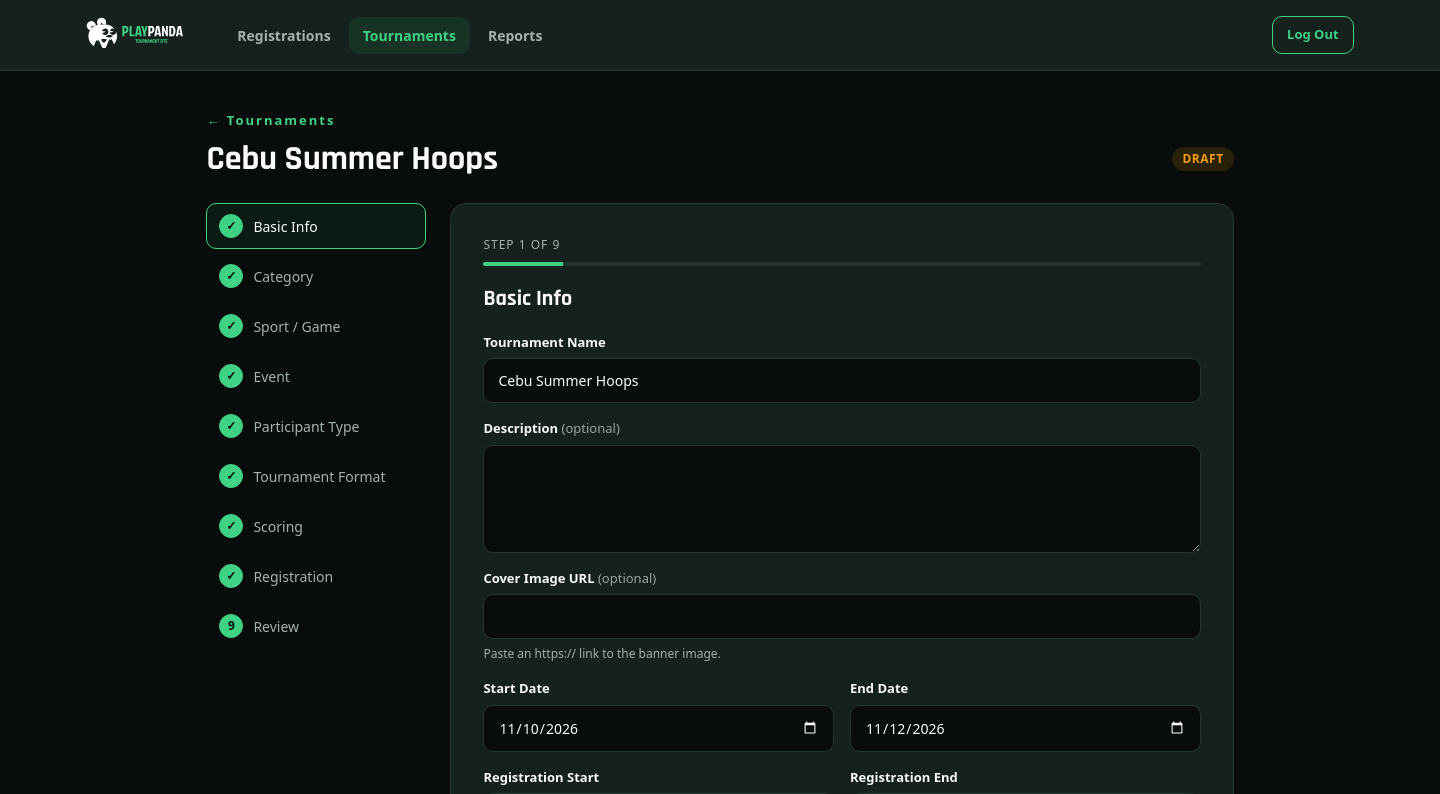
Test case: TournamentWizardPage › publishes a complete tournament with status and published_at
Step 1. Click the button "9 Review" → (316, 626), box [206,603,426,649]
(page scrolled)
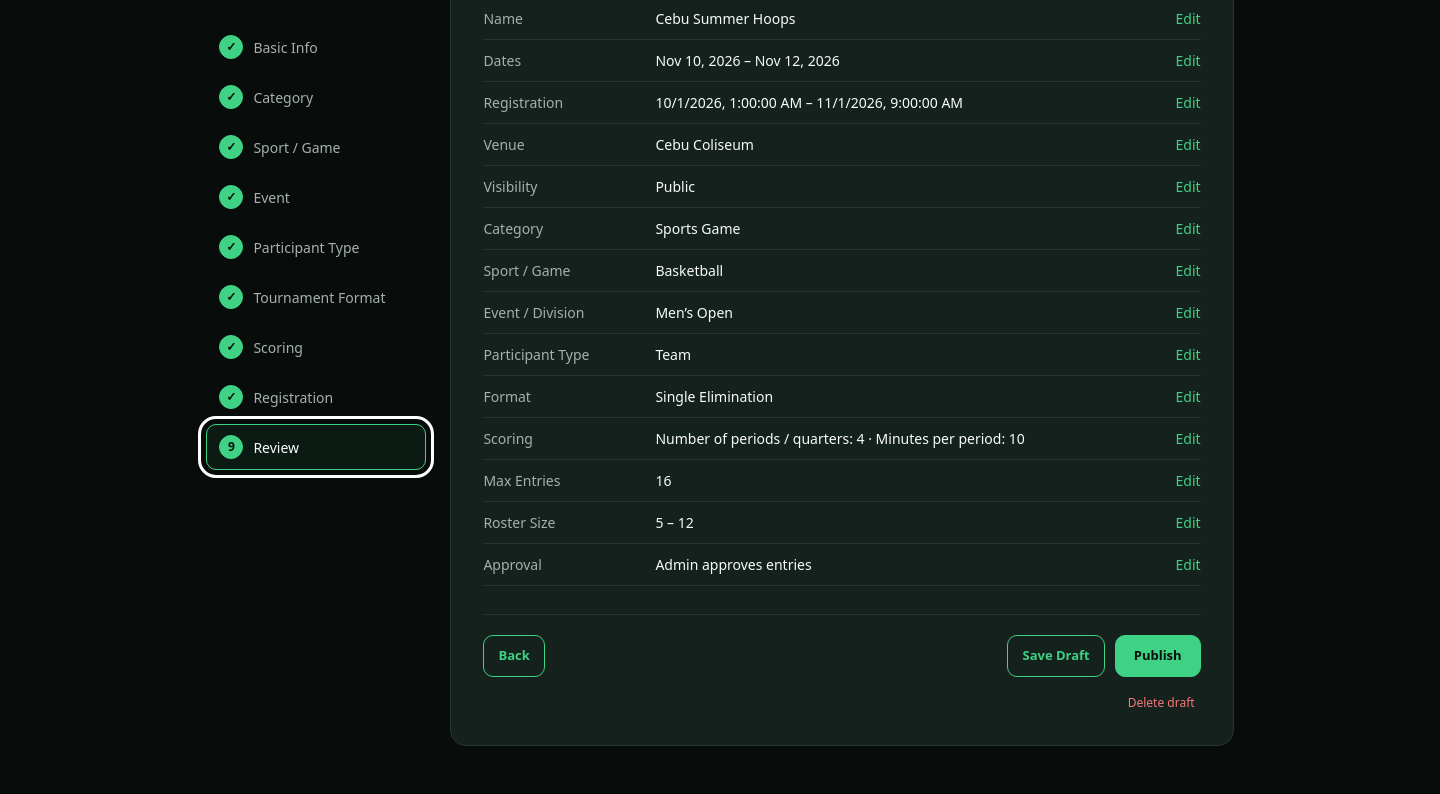
Step 2. Click the button "Publish" → (1158, 656), box [1115,635,1201,677]
(page scrolled)
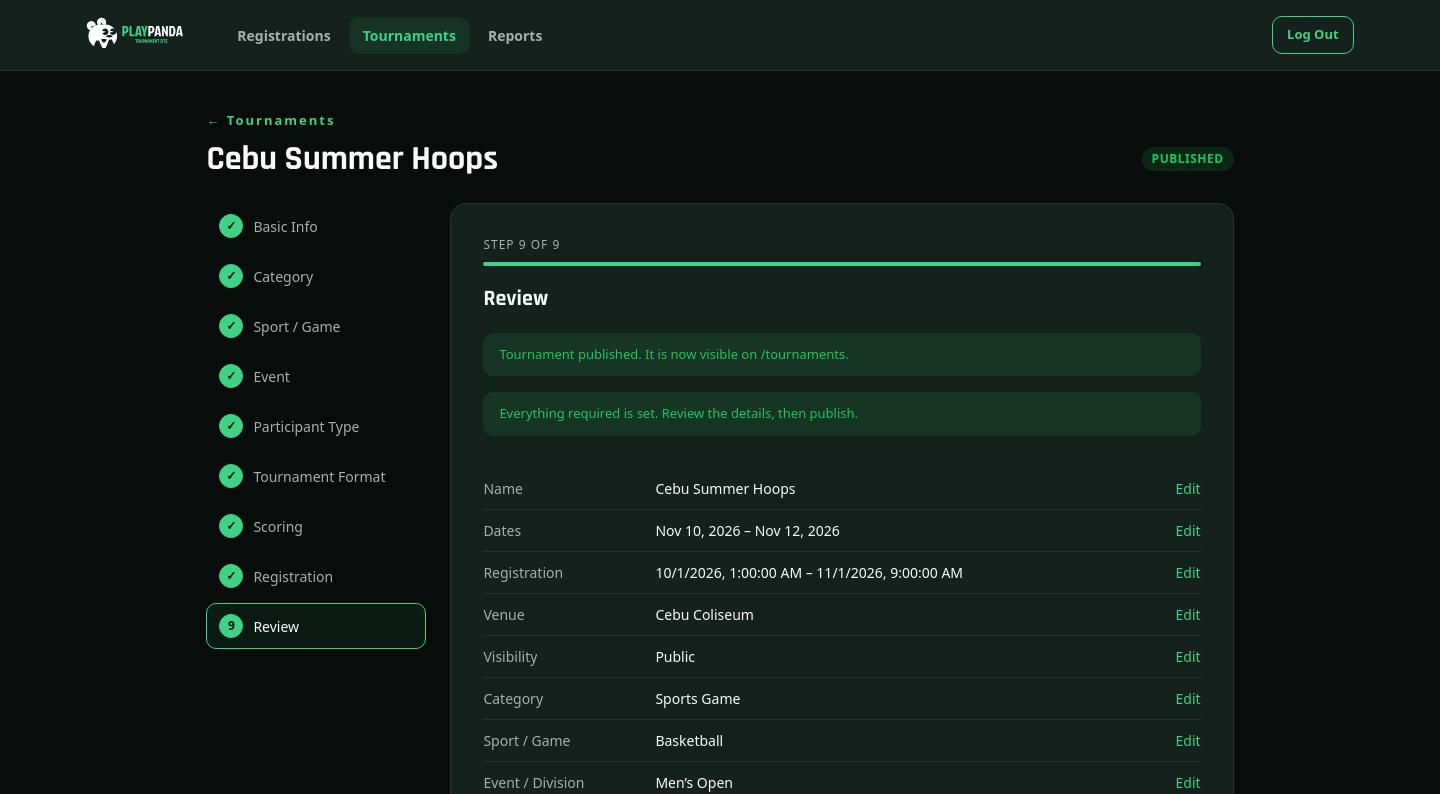
Result: the text "Tournament published. It is now visible on /tournaments." is shown at [483,333,1201,376]
